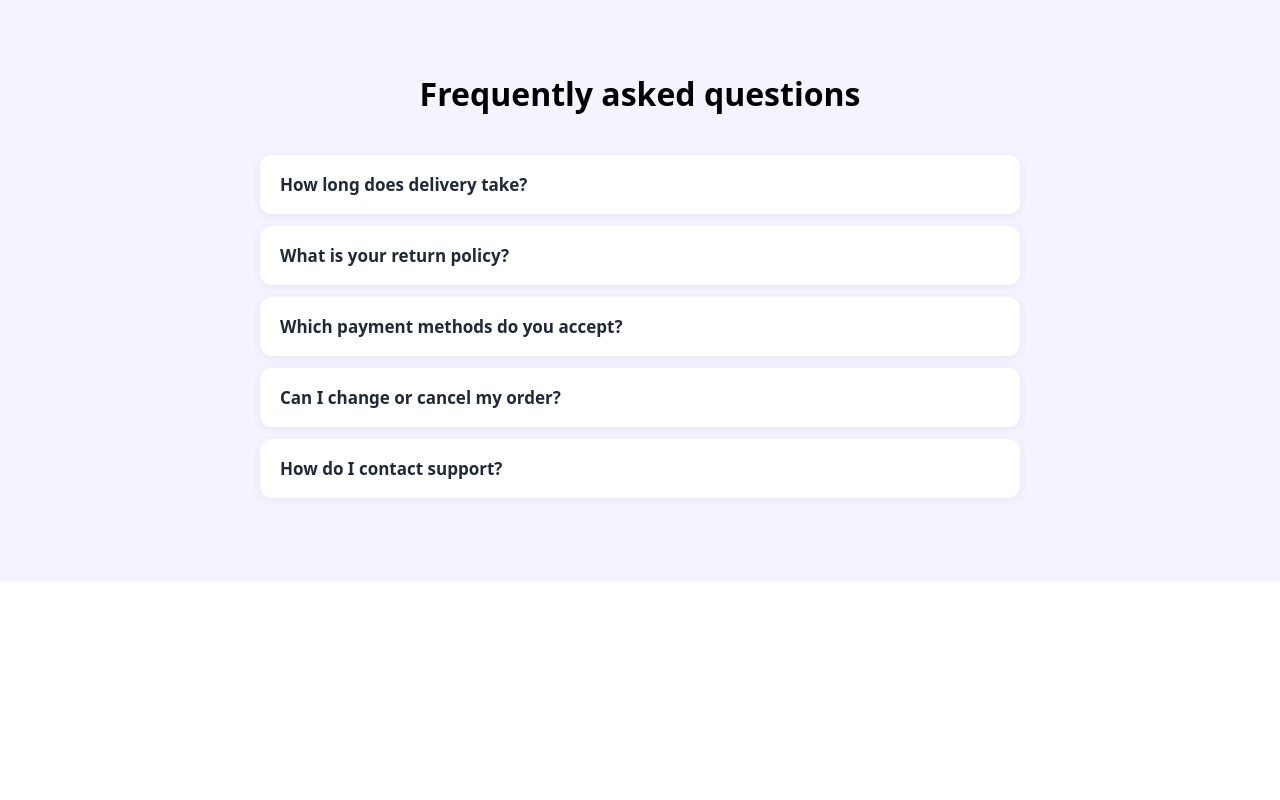
AC-11 faq accordion
The width and height of the screenshot is (1280, 800).
Expected: the heading "Frequently asked questions" is shown, x1=420 y1=72 x2=860 y2=115
Click the button "How long does delivery take?" at (404, 184), box x1=260 y1=155 x2=1020 y2=214
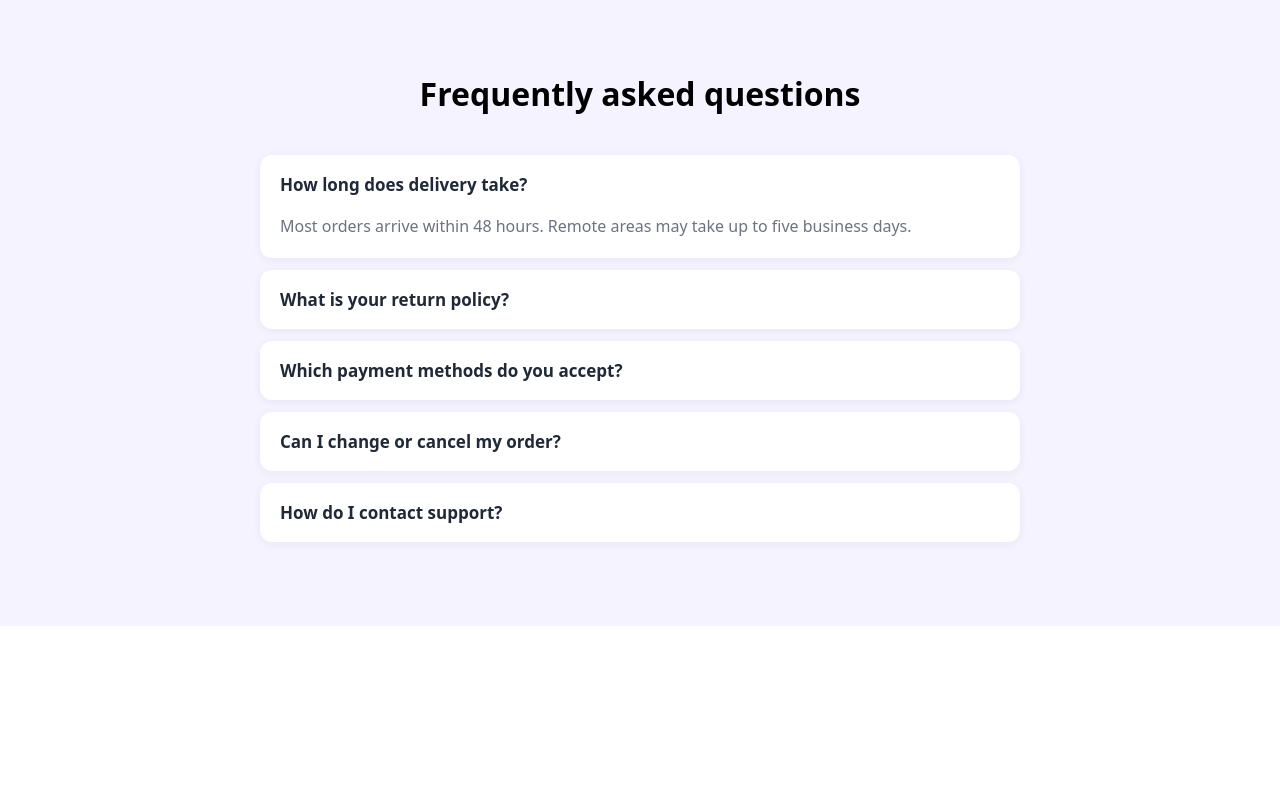
Expected: the text "Most orders arrive within 48 hours. Remote areas may take up to five business days." is shown, x1=280 y1=215 x2=912 y2=237
Click the button "What is your return policy?" at (395, 299), box x1=260 y1=270 x2=1020 y2=329
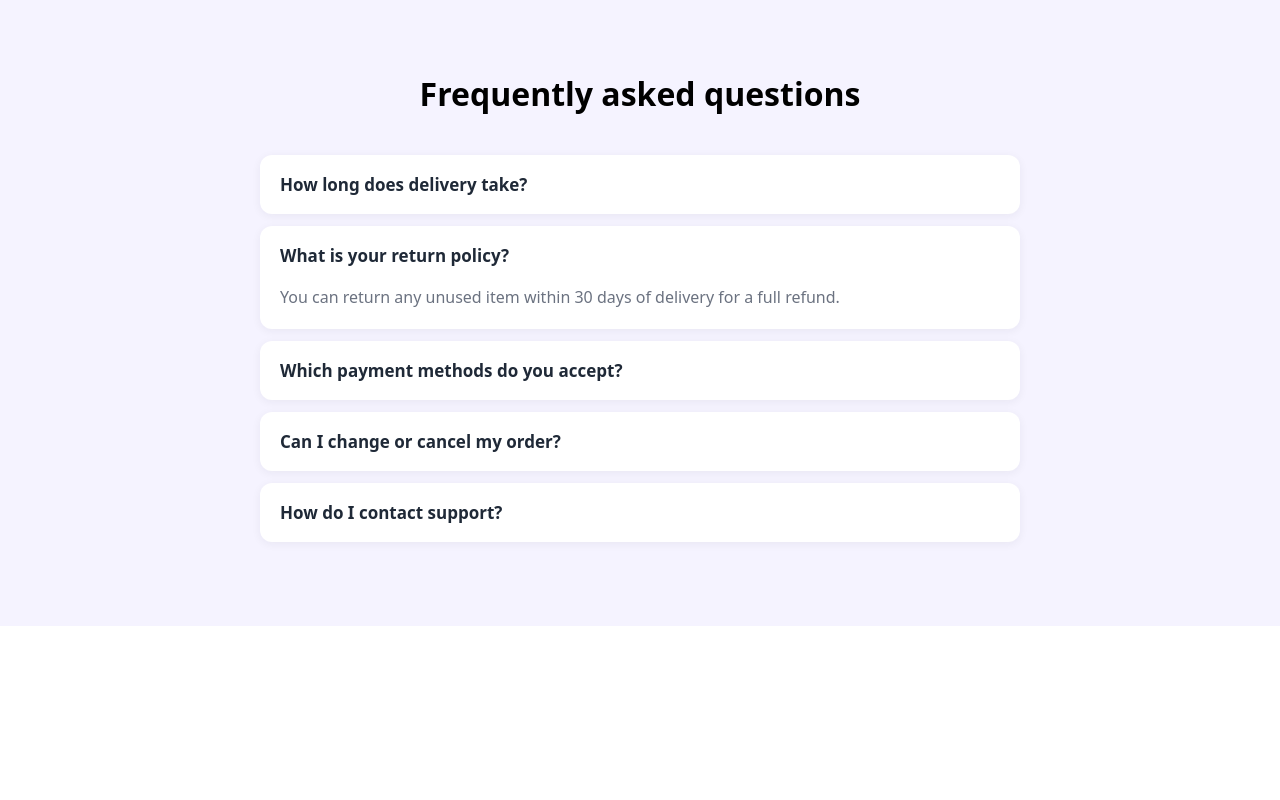
Expected: the button "What is your return policy?" is expanded, x1=260 y1=226 x2=1020 y2=285
Expected: the text "You can return any unused item within 30 days of delivery for a full refund." is shown, x1=280 y1=286 x2=840 y2=308
Expected: the text "Most orders arrive within 48 hours. Remote areas may take up to five business days." is gone
